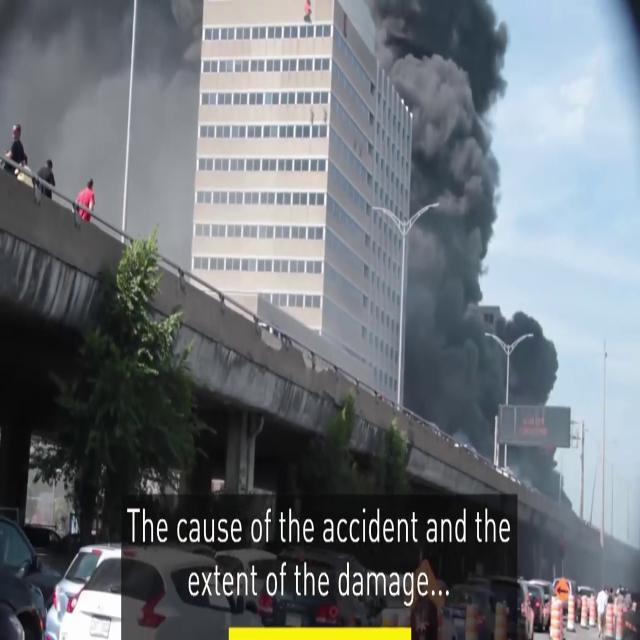Smoke: (389, 0, 516, 436)
